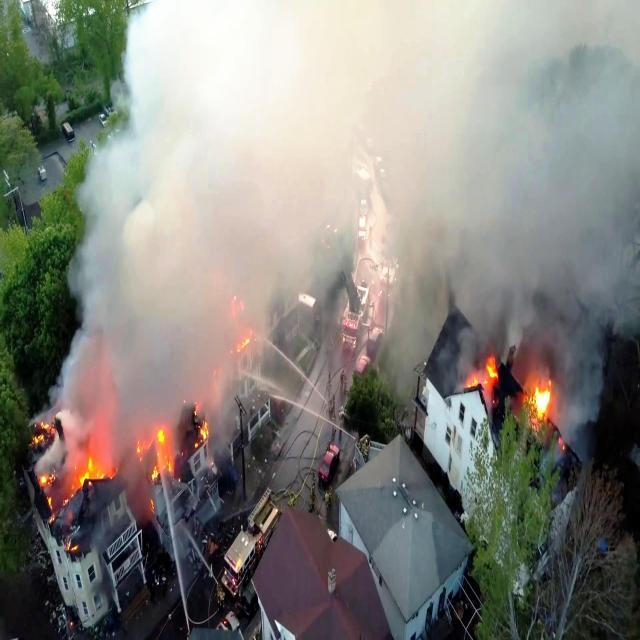Fire: (462, 348, 500, 414), (68, 446, 110, 499), (140, 427, 175, 478), (27, 408, 52, 450), (37, 468, 55, 523), (531, 381, 549, 430), (193, 420, 208, 452), (68, 537, 80, 552), (148, 496, 154, 514)
Smoke: (76, 0, 640, 341), (53, 346, 290, 430), (552, 350, 602, 430)
